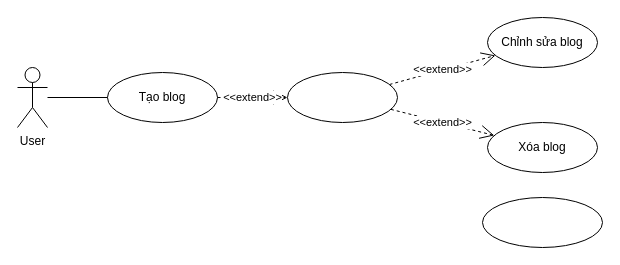
Image size: 620x265. Some labels were removed from this diagram. Here are the shapes that lost their labels. From the top down, the centre of each, then its label:
[342,97]: xem chi tiết blog
[542,222]: Like
